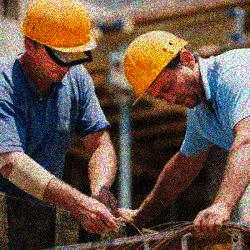helmet: (121, 31, 202, 113), (19, 1, 98, 84)
